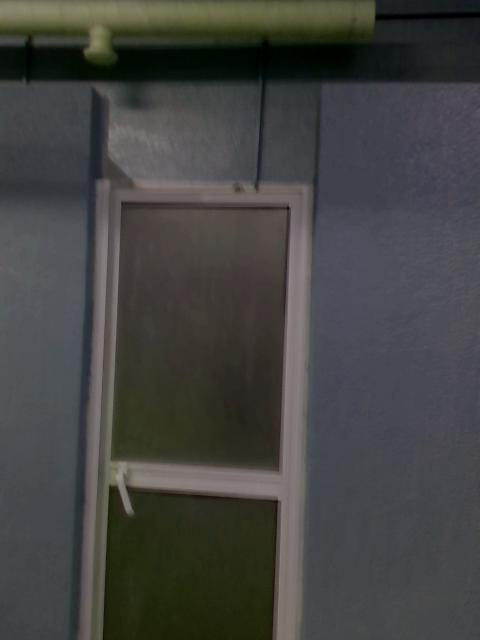closed_door: (76, 177, 311, 638)
